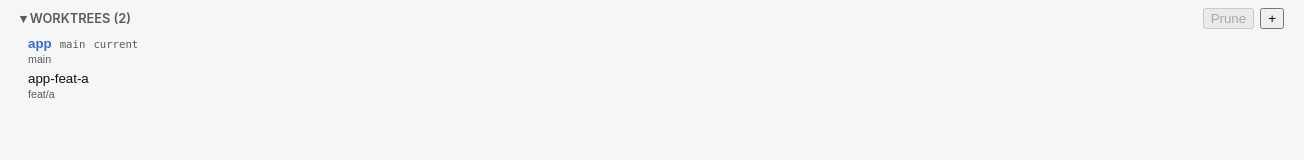
Test case: WorktreesPanel open › should close the menu on Escape without acting
This screenshot has width=1304, height=160.
Expected: the list named "Worktree list" is shown, [12,33,1292,111]
Right-click the button "app-feat-a feat/a" at (58, 78), box [12,68,1292,103]
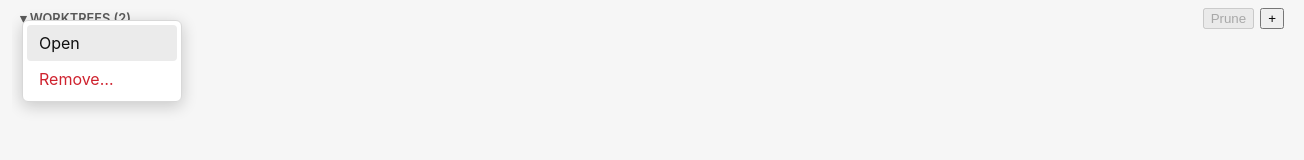
Press Escape
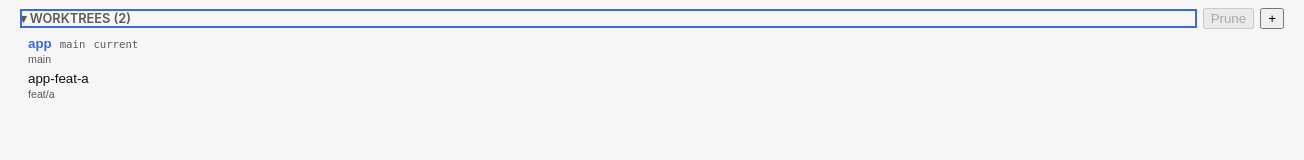
Expected: the menu is gone
